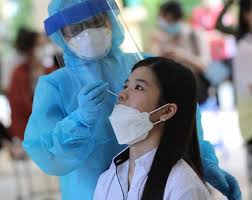with_incorrect_mask: (109, 70, 165, 148)
with_mask: (56, 15, 125, 60)
